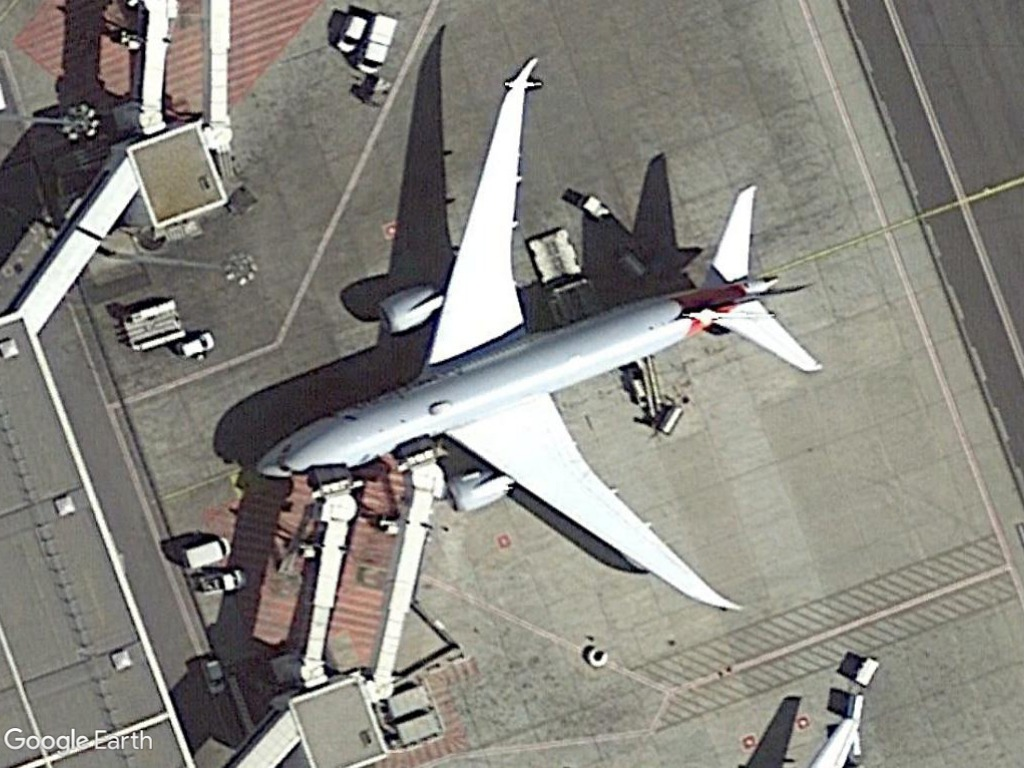airliner: (244, 56, 832, 620)
car: (199, 656, 229, 698)
truck: (354, 10, 402, 77), (177, 534, 232, 571)
van: (334, 10, 366, 55), (173, 333, 218, 360)
